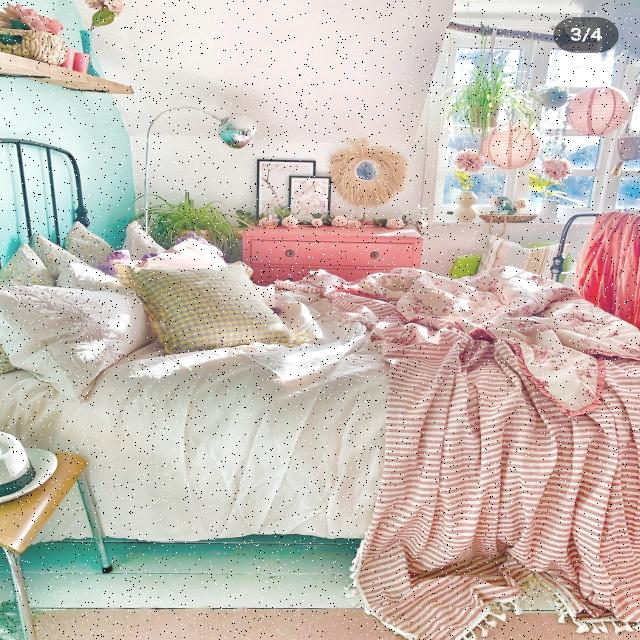bed: (0, 187, 640, 539)
